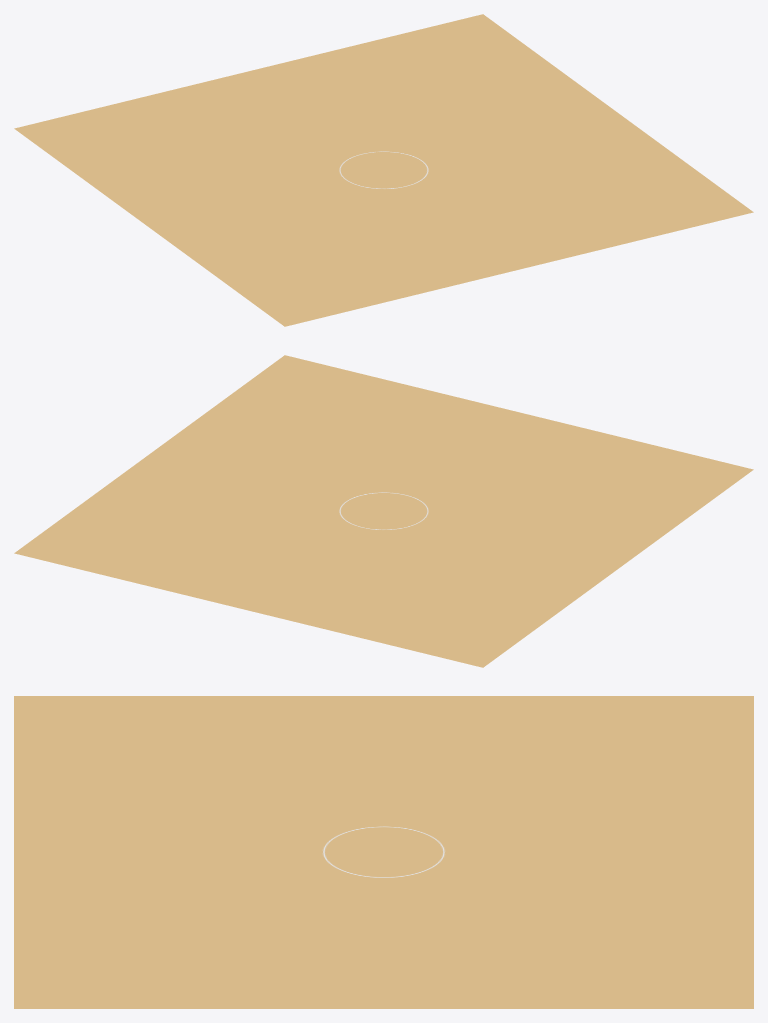
The model's file is Field.fbx.
The picture shows the model from 3 angles, top to bottom: view 1: azimuth 30°, elevation 25°; view 2: azimuth 150°, elevation 25°; view 3: azimuth 270°, elevation 25°; orthographic projection. The views are drawn at different scales.
Parts seen in each view (by area): view 1: pPlane2; view 2: pPlane2; view 3: pPlane2.
Boxes of the visible parts, left/top/right/bottom form: pPlane2: left=14, top=14, right=753, bottom=326; pPlane2: left=14, top=355, right=753, bottom=667; pPlane2: left=14, top=696, right=753, bottom=1008.
Bounding box in the file's own units: 239 × 0.1 × 239.
